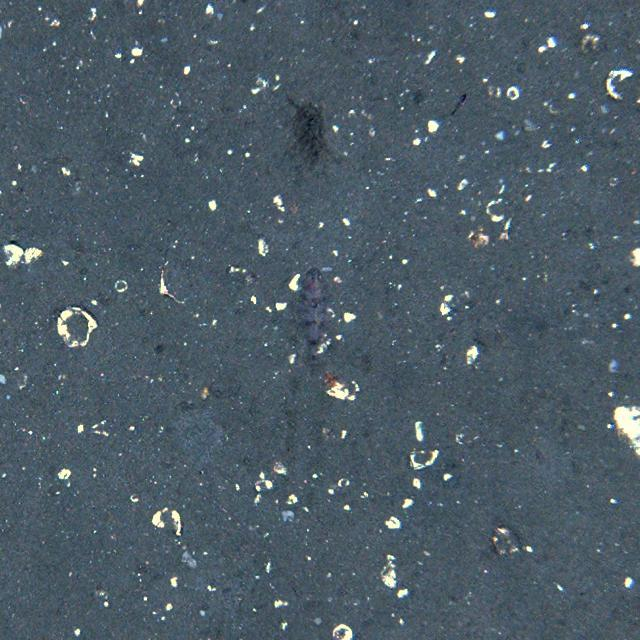flatfish: (292, 265, 334, 364)
